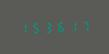five: (29, 20, 40, 34)
one: (66, 19, 77, 33), (17, 21, 28, 34)
seven: (78, 19, 89, 32)
six: (54, 20, 65, 33)
three: (42, 20, 53, 34)
